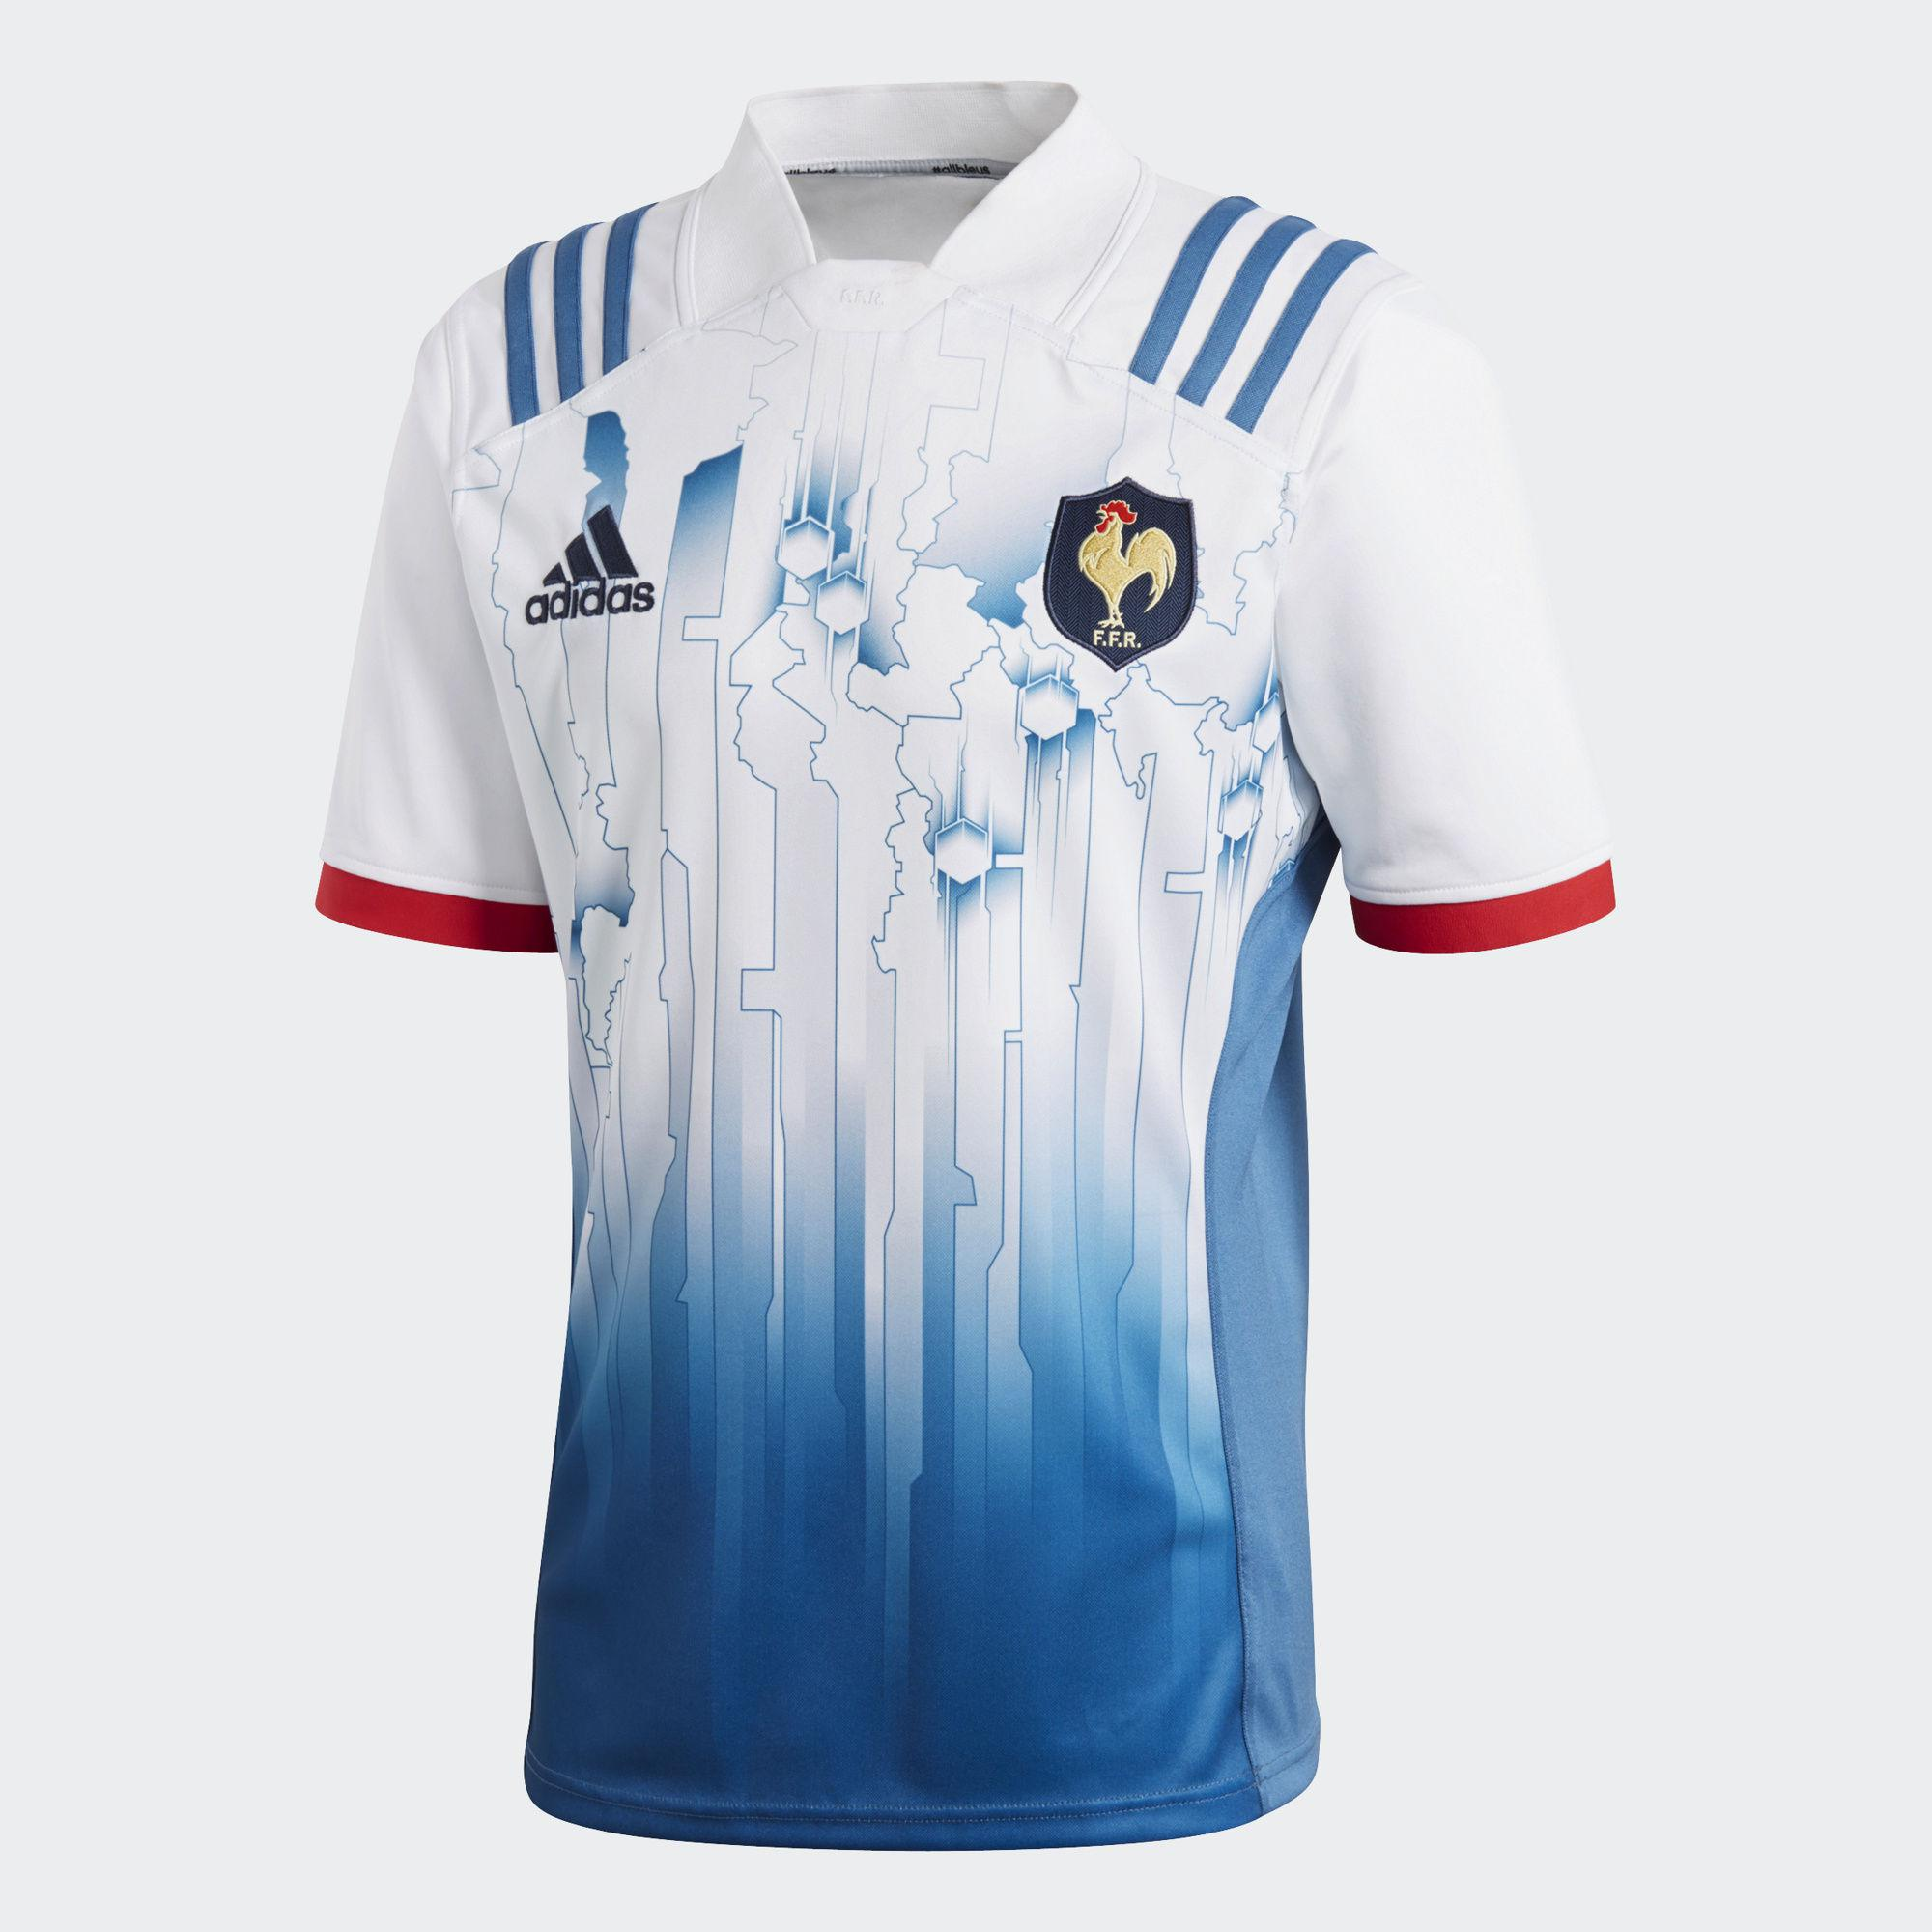teeshirt: (267, 60, 1644, 1849)
